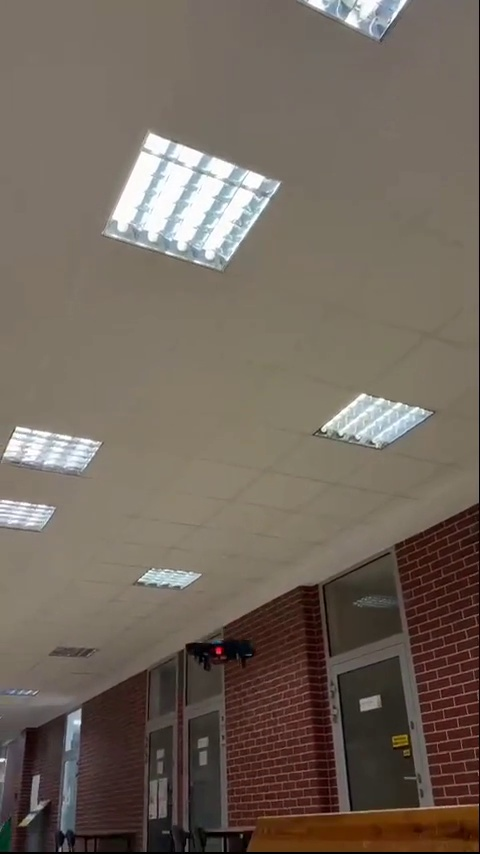drone: (185, 634, 253, 668)
